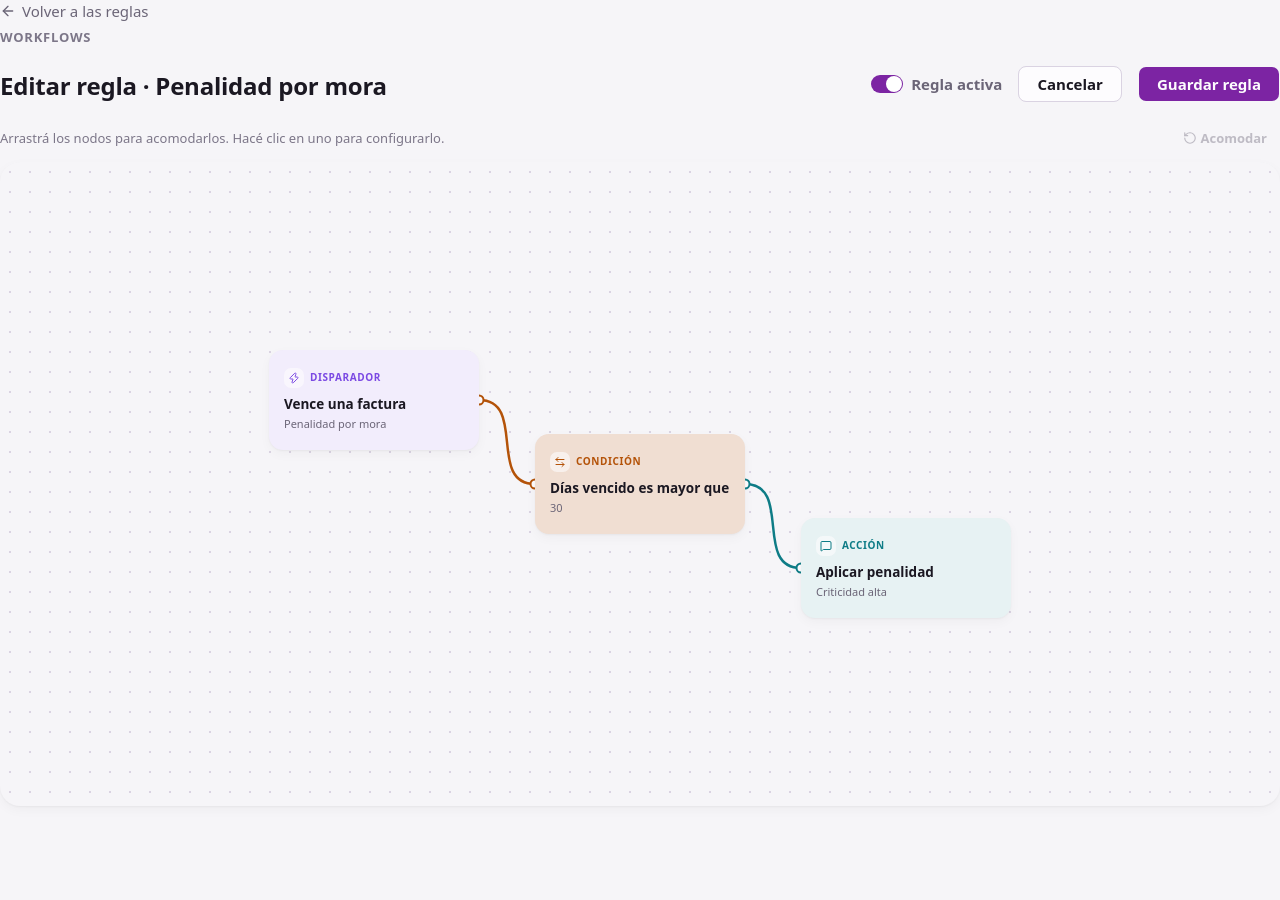
Scenario: ReglaWorkflowEditorPage › diálogos de los nodos › aplicar pasa el borrador a la regla sin guardarla todavía
Click the button "Disparador Vence una factura Penalidad por mora" at (374,400), box [269,350,479,450]
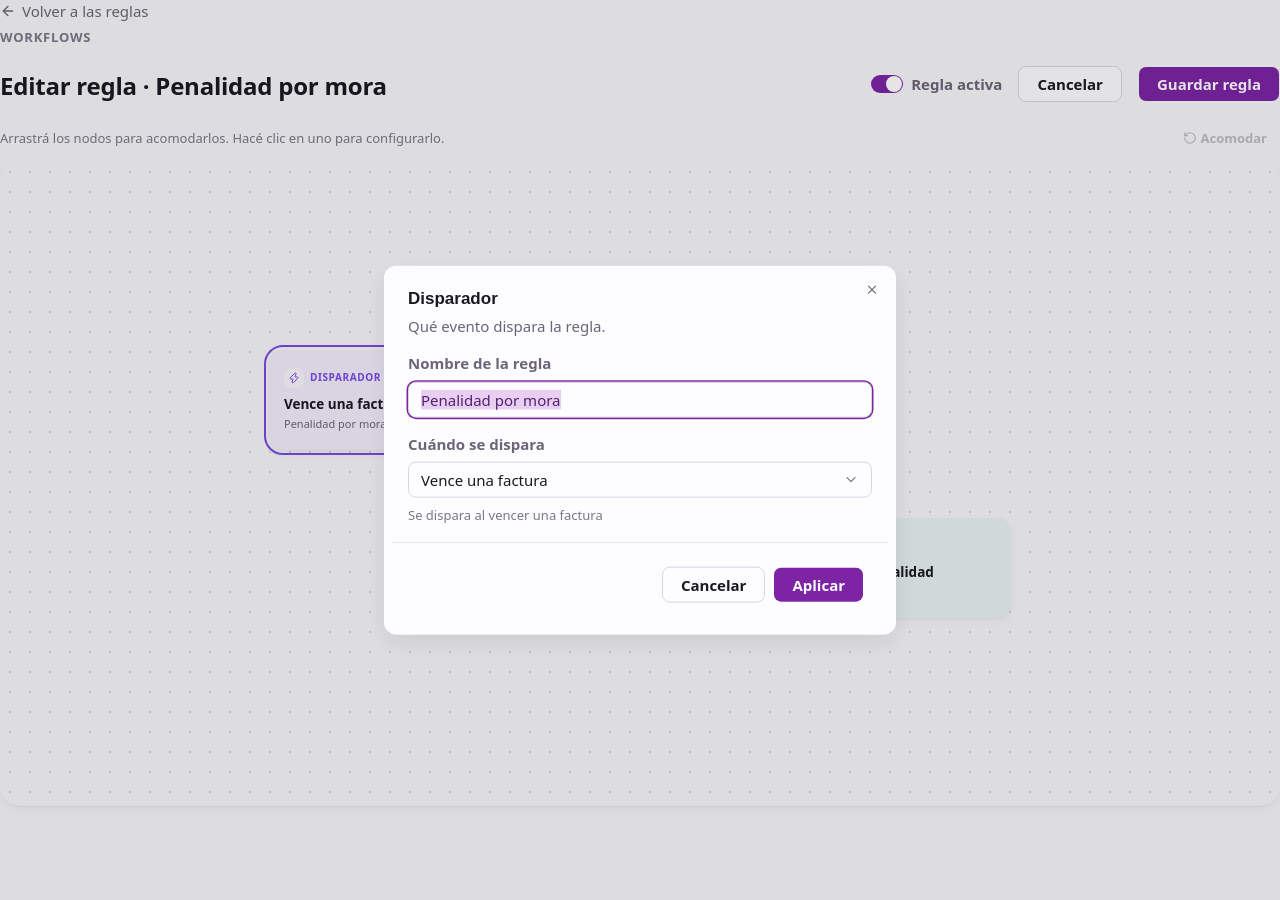
Type " editada" into the field labelled "Nombre de la regla" at (640,399), box [408,381,872,417]
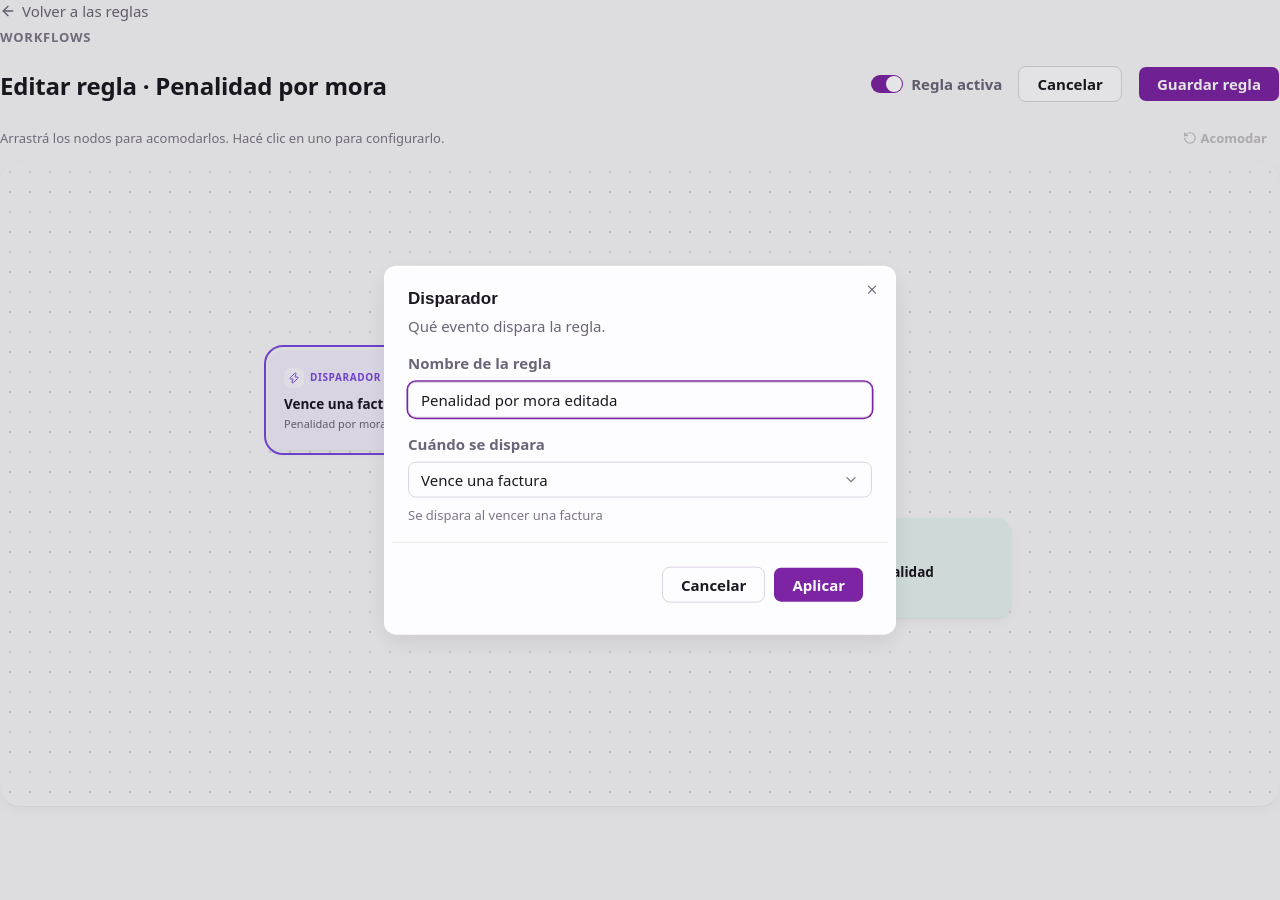
Click the button "Aplicar" at (819,584), box [773,566,864,602]
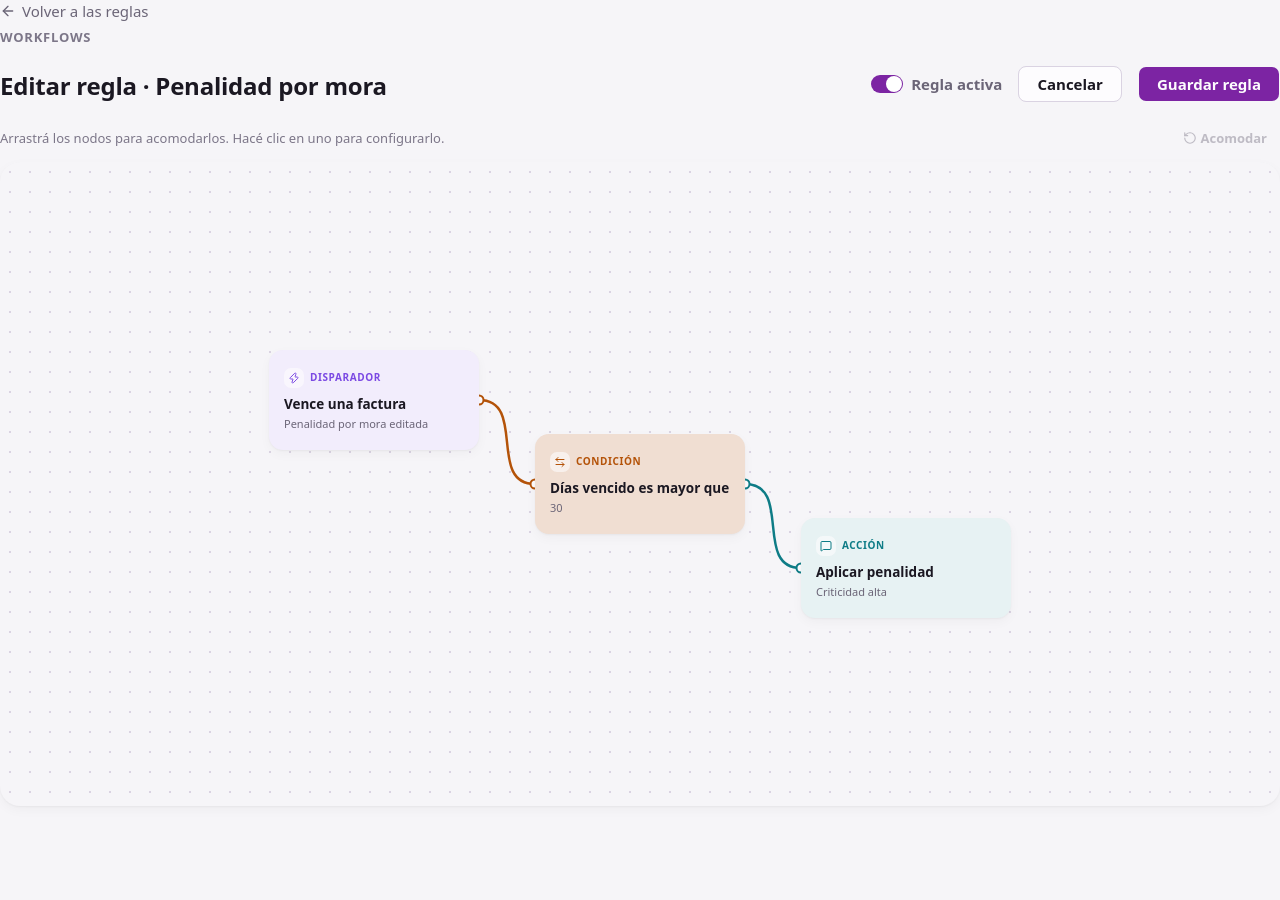
expect the button "Disparador Vence una factura Penalidad por mora editada" is shown: met, box [269,350,479,450]
